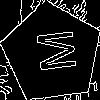M: (27, 28, 77, 75)
